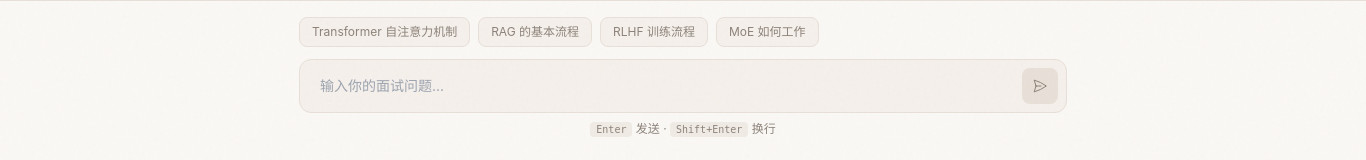
Test: ChatInput › 点击推荐问题填入输入框
This screenshot has width=1366, height=160.
Click the button "RAG 的基本流程" at [535, 32], box [478,17,592,47]
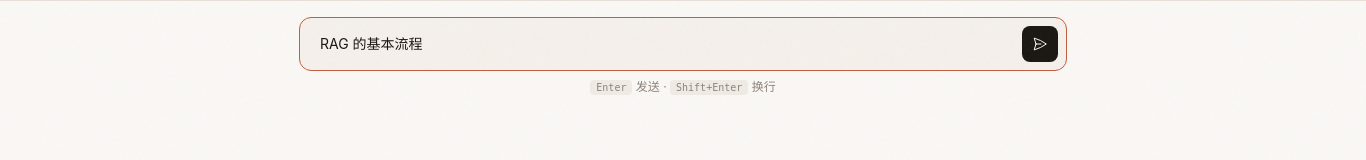
Now the text box with placeholder "输入你的面试问题..." holds "RAG 的基本流程", box [308,26,1014,62]
